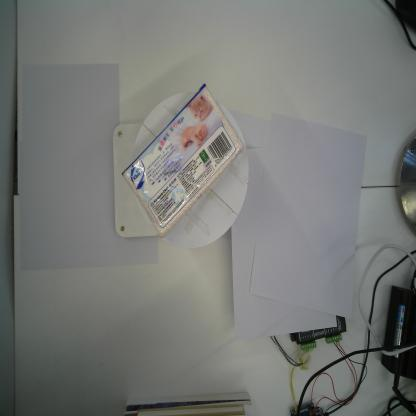Tissue: (120, 78, 244, 240)
